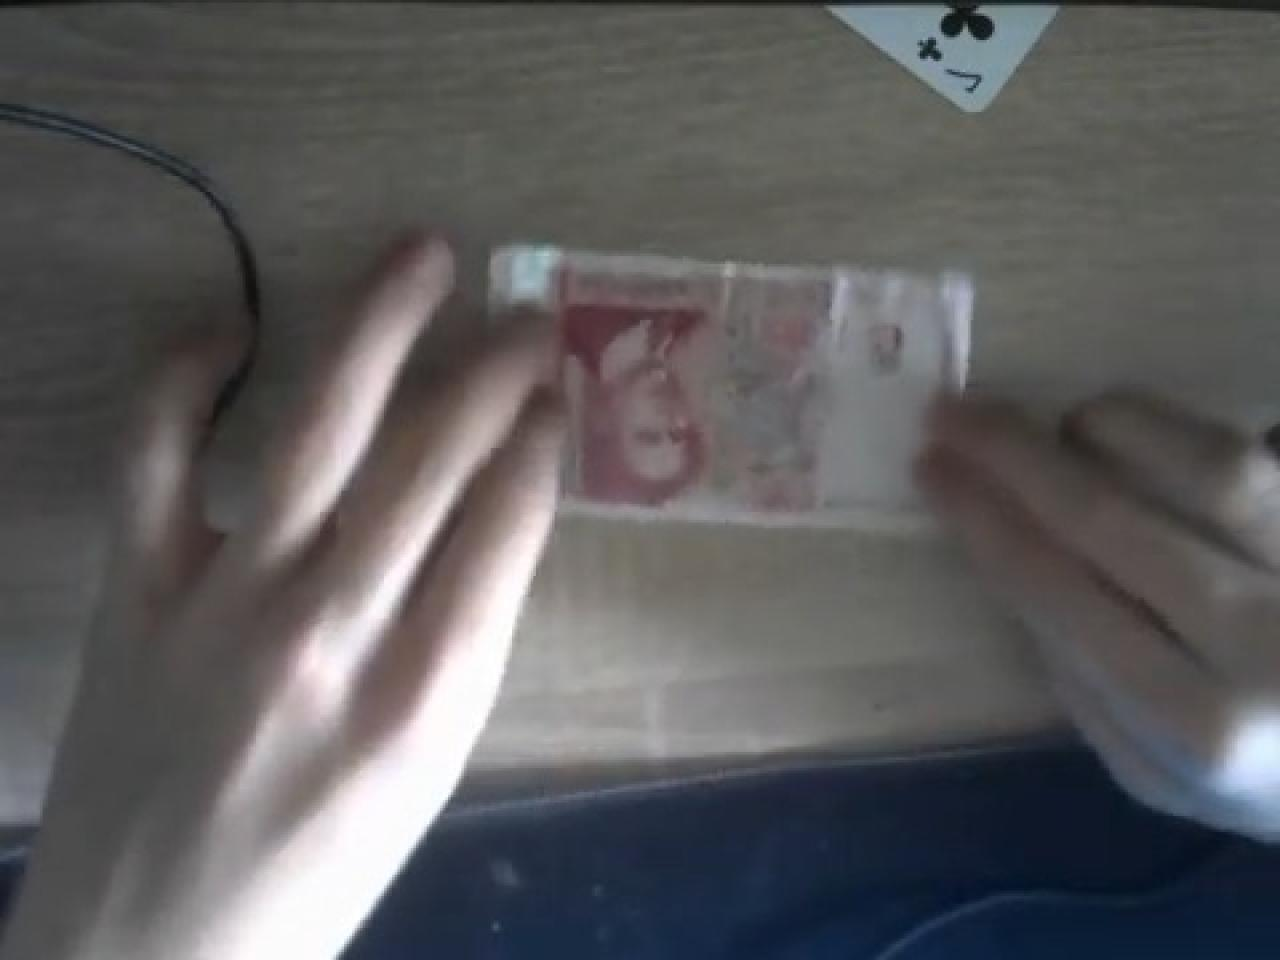5leva: (563, 259, 843, 517)
